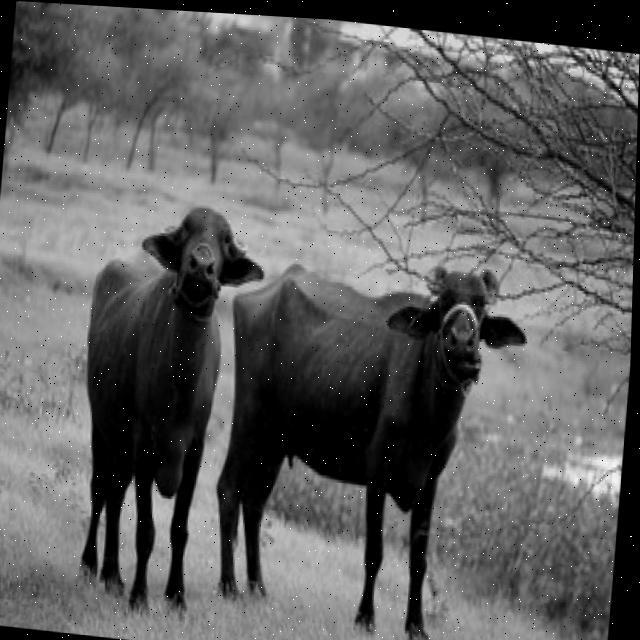Buffalo: (233, 243, 533, 640), (69, 188, 271, 637)
